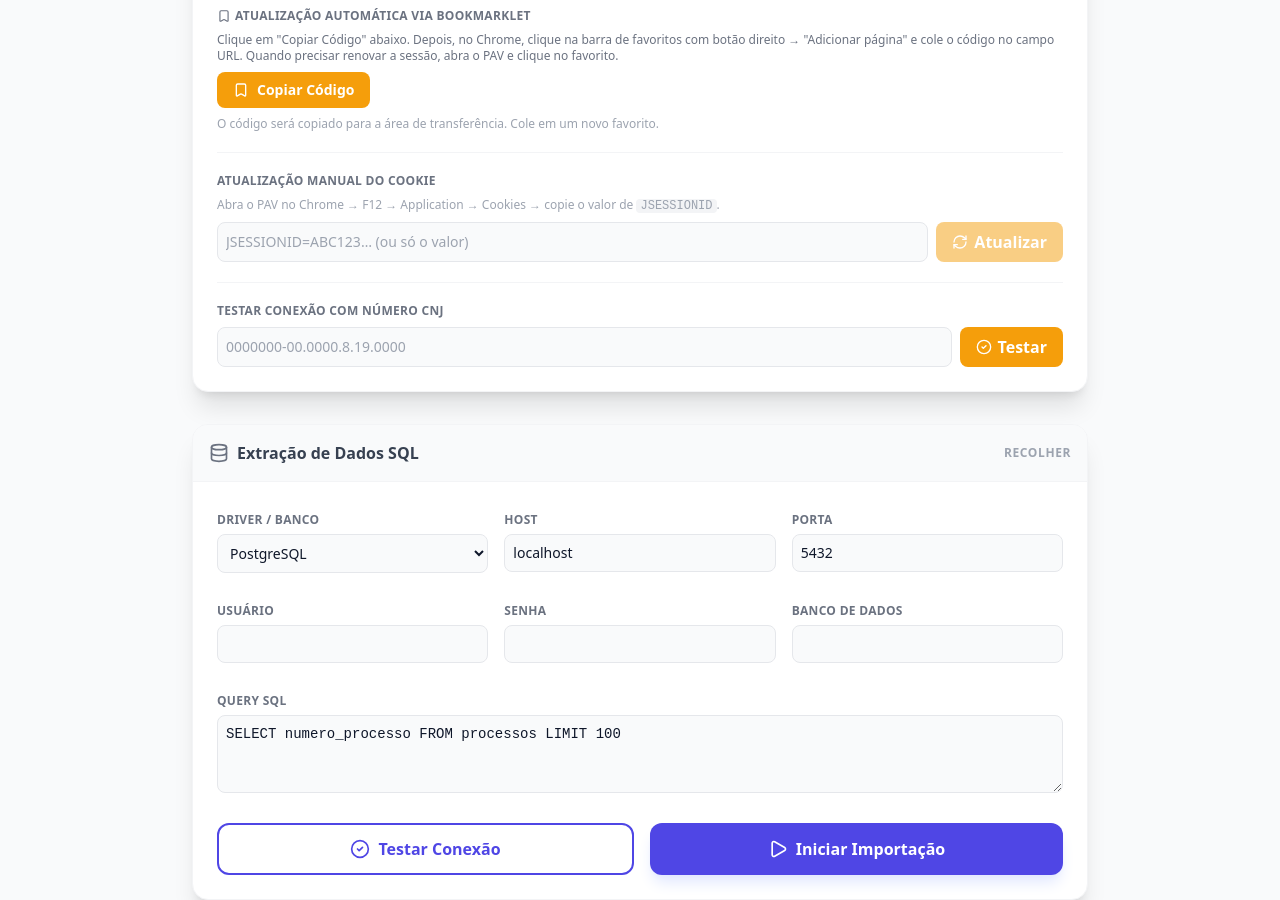
Test: Settings Component › Import Functionality › TC-23: shows loading state during import
The image size is (1280, 900).
(page scrolled)
Click the button "Iniciar Importação".
click(856, 849)  # box [650,823,1063,875]
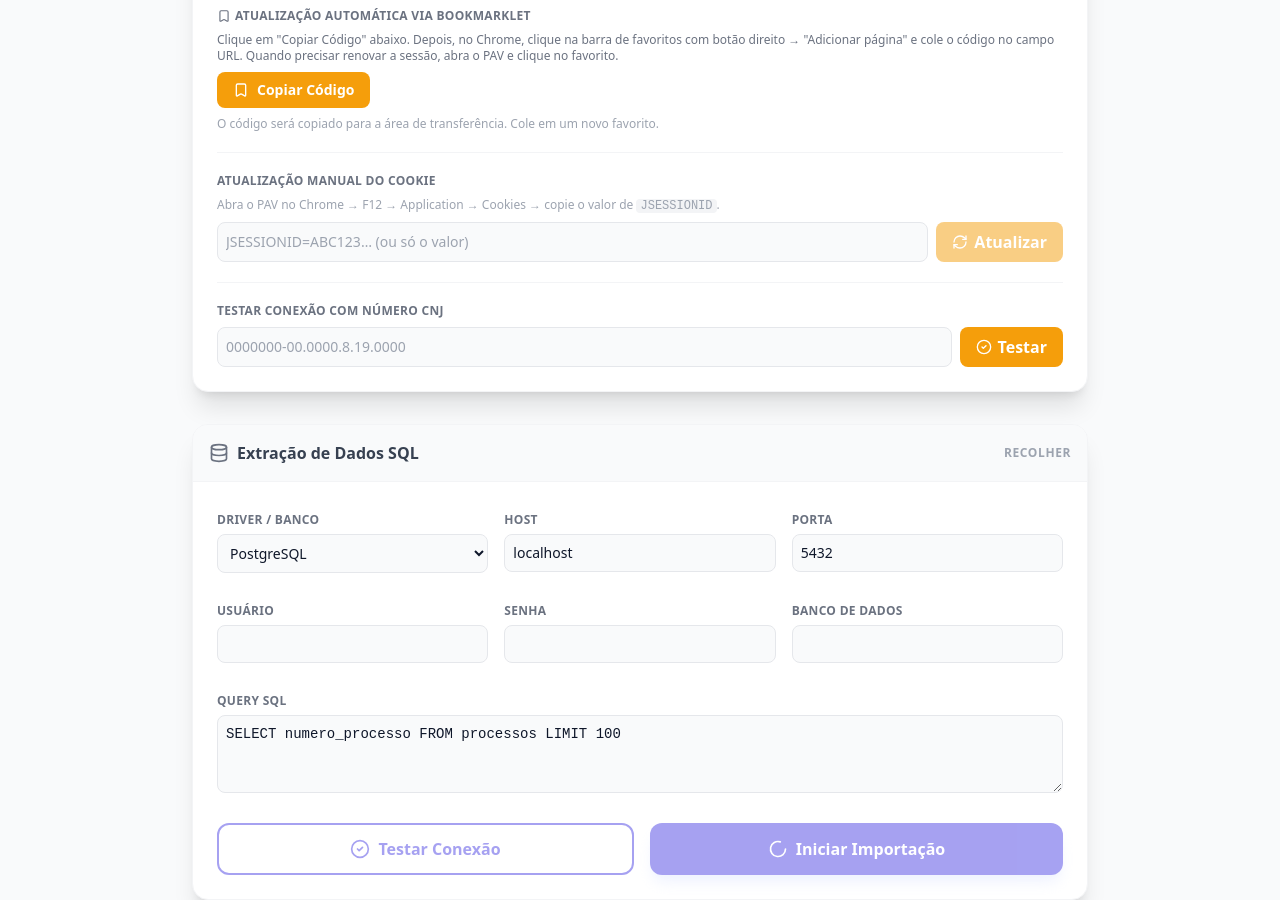
Check: the icon with class "animate-spin" is shown, box [768,839,788,859]
